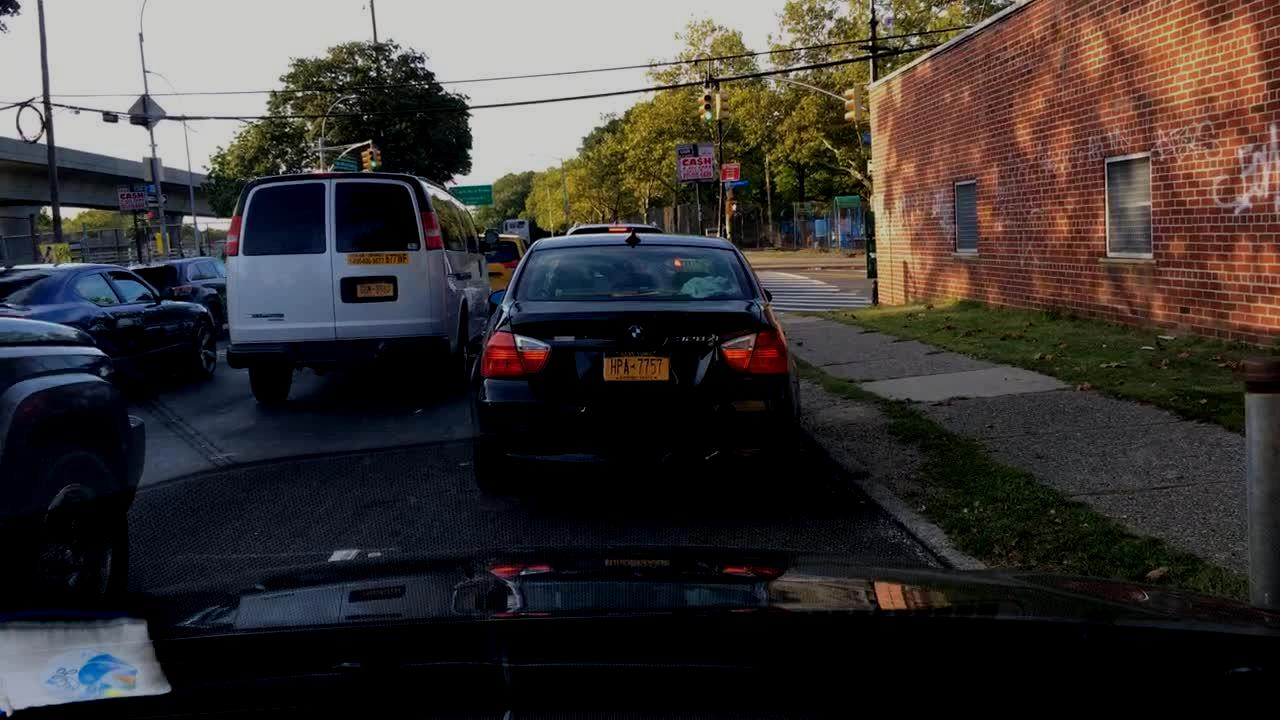bmw: (626, 321, 648, 344)
